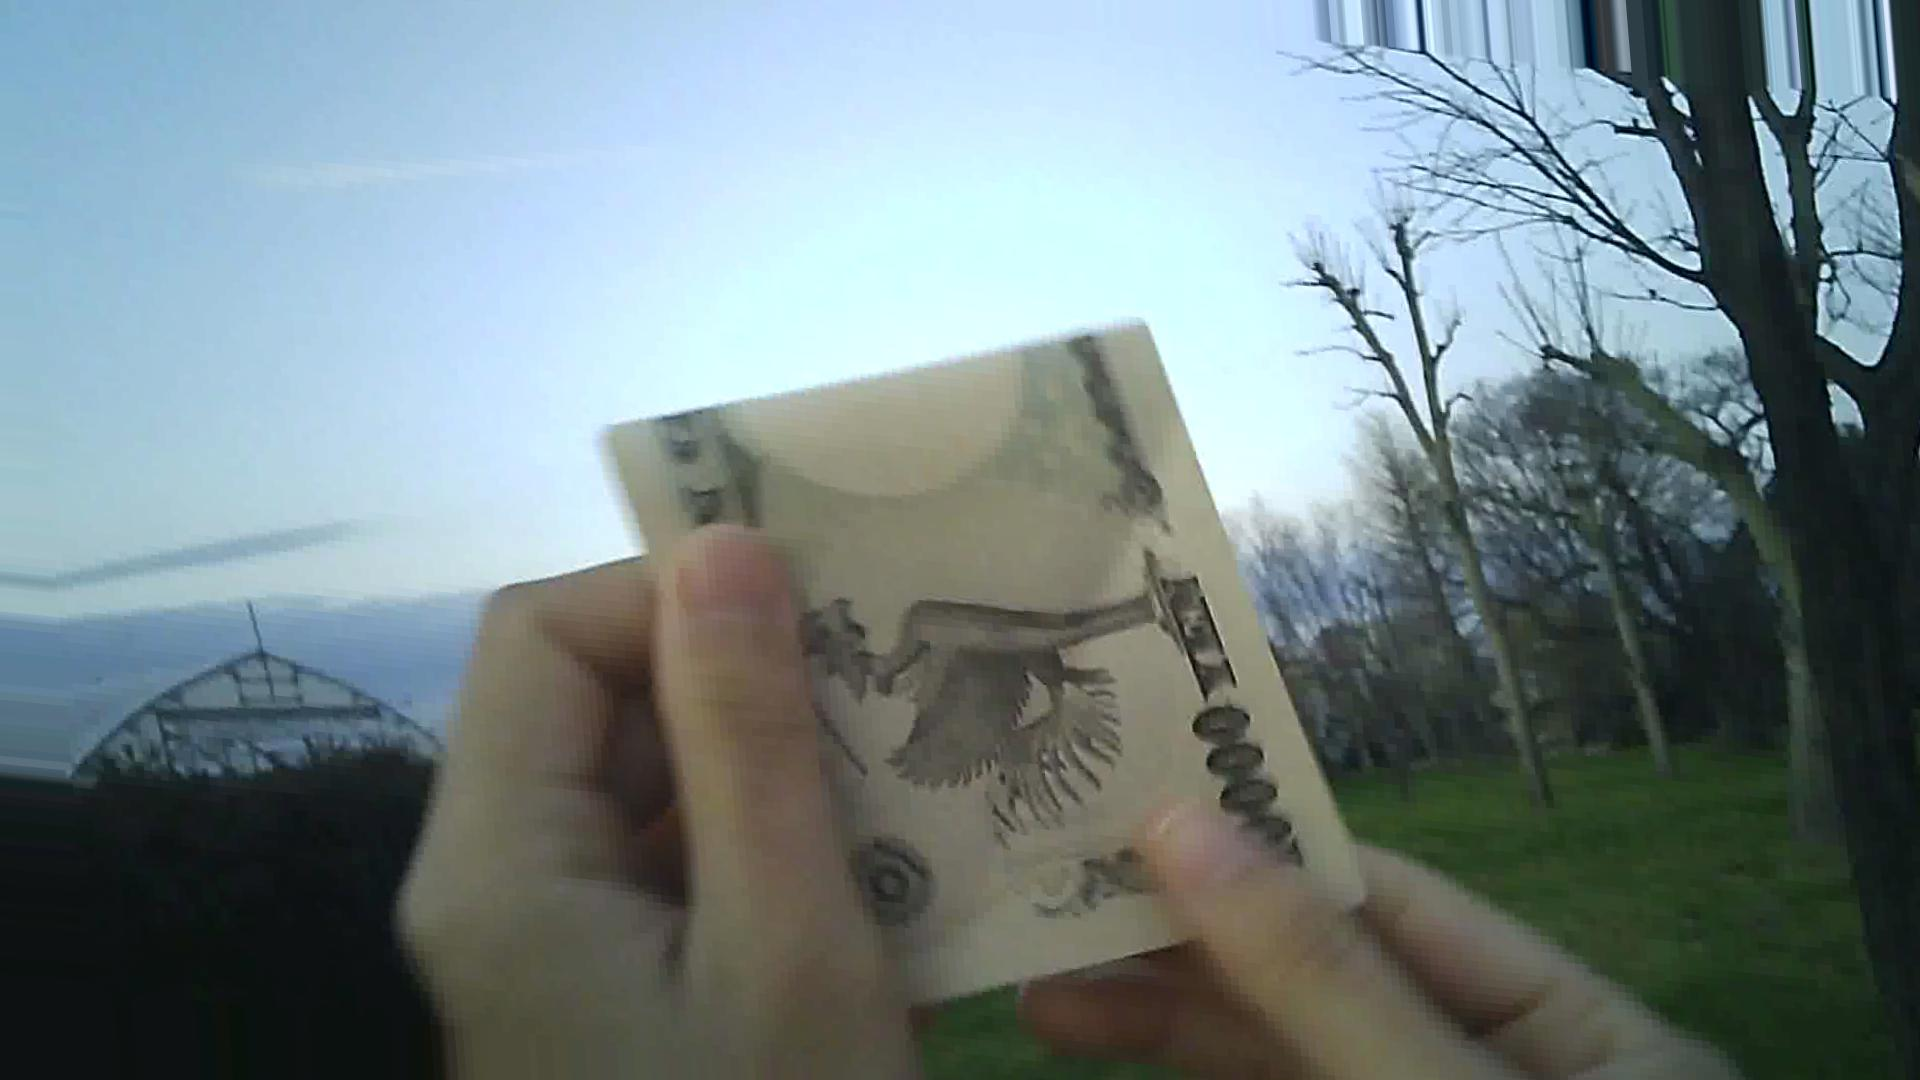10,000 Yen: (579, 309, 1383, 1004)
